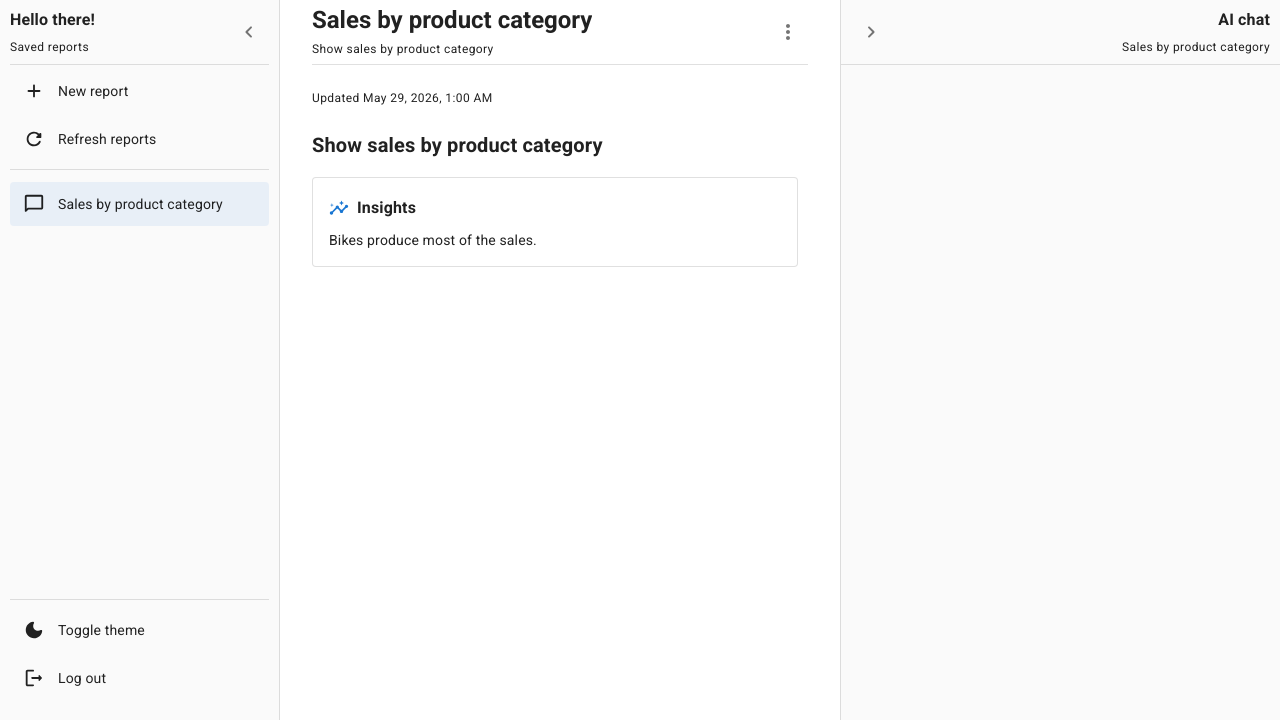
Test: <HomePage /> › shows saved reports from the API and lets the user rename a report
The image size is (1280, 720).
Expected: the button "Sales by product category" is shown, top-left (10, 182), bottom-right (269, 226)
Expected: the heading "Sales by product category" is shown, top-left (312, 4), bottom-right (592, 36)
Click the button named "report actions" at (788, 32), box top-left (768, 12), bottom-right (808, 52)
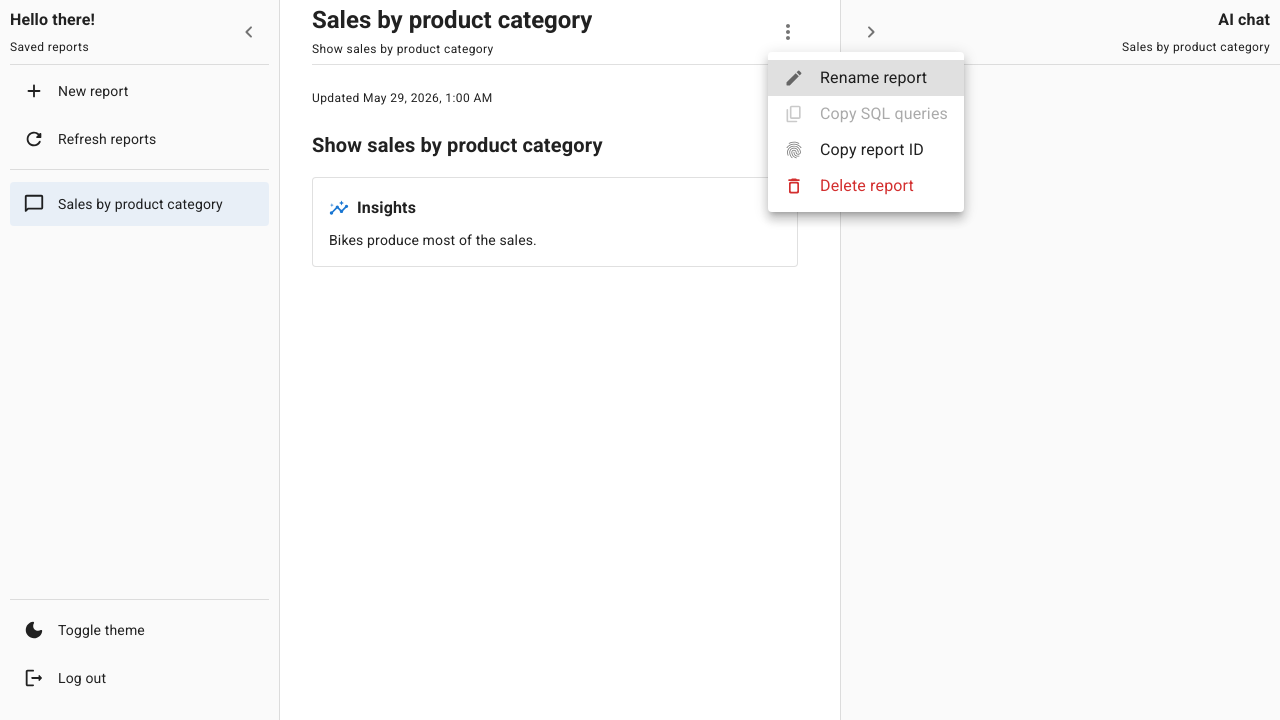
Click the menu item "Rename report" at (866, 78), box top-left (768, 60), bottom-right (964, 96)
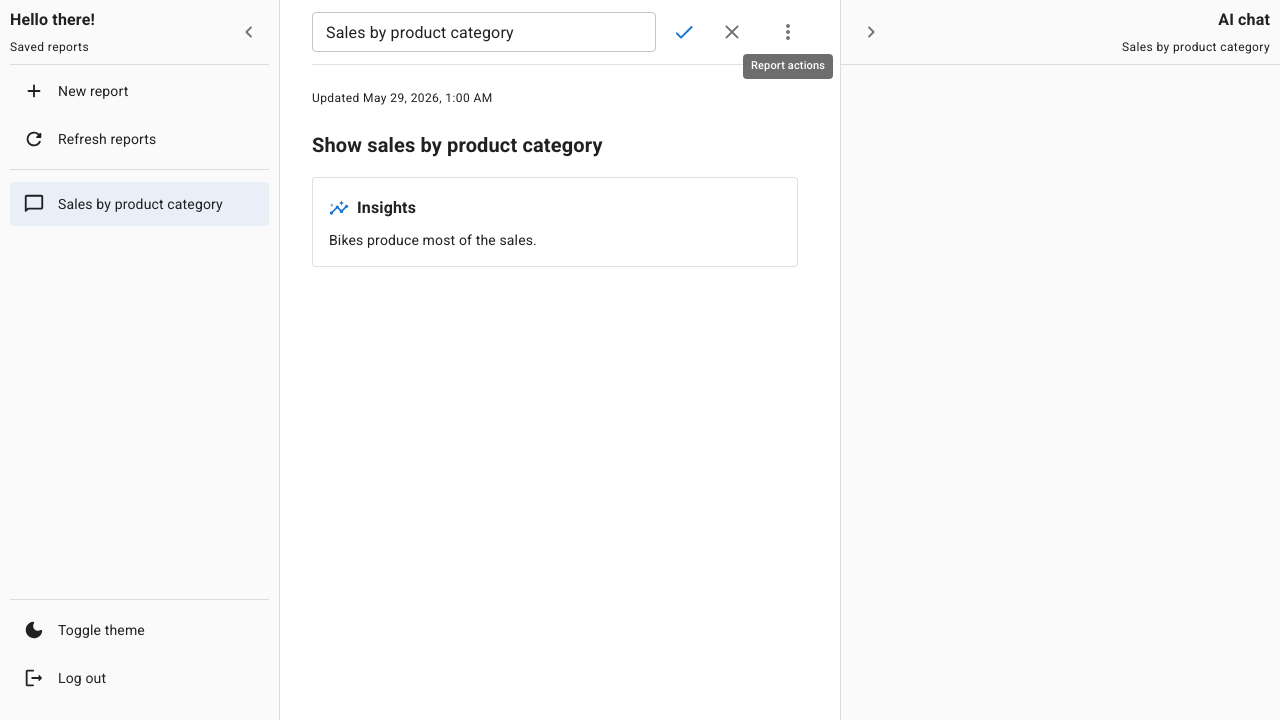
Replace the text in the field named "report title" with "Category sales overview" at (484, 32), box top-left (312, 12), bottom-right (656, 52)
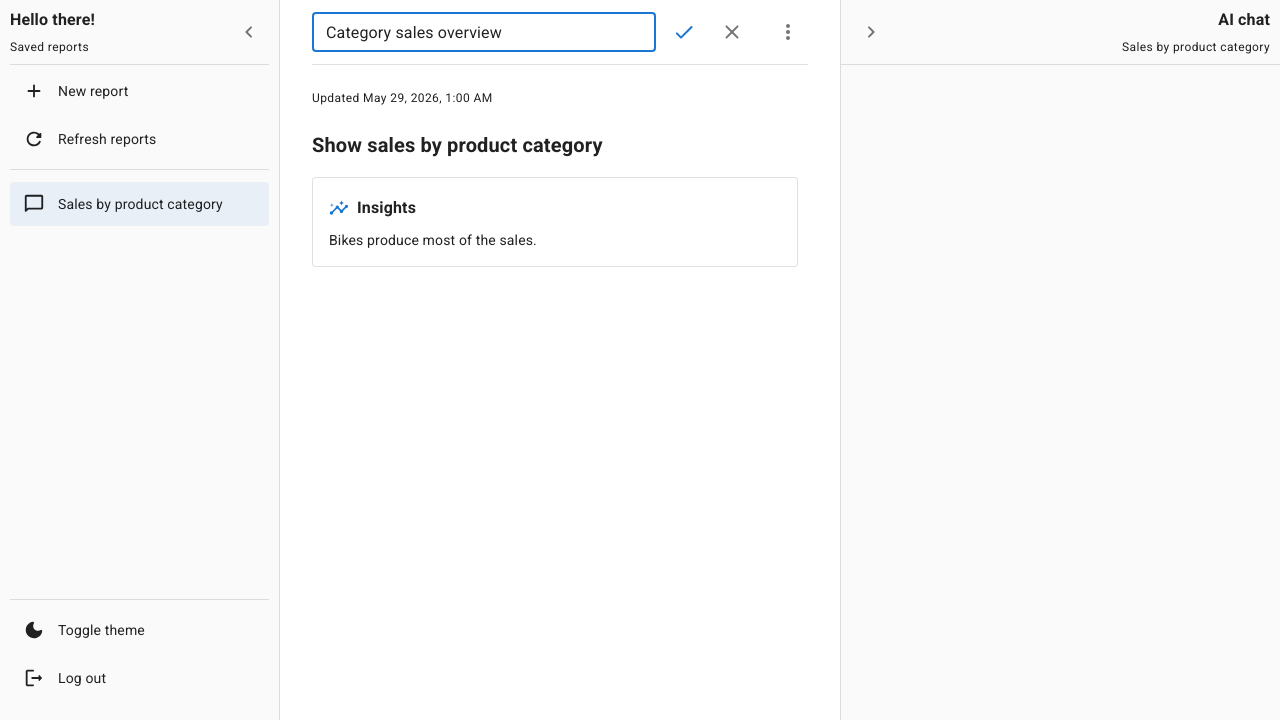
Click the button named "save title" at (684, 32), box top-left (664, 12), bottom-right (704, 52)
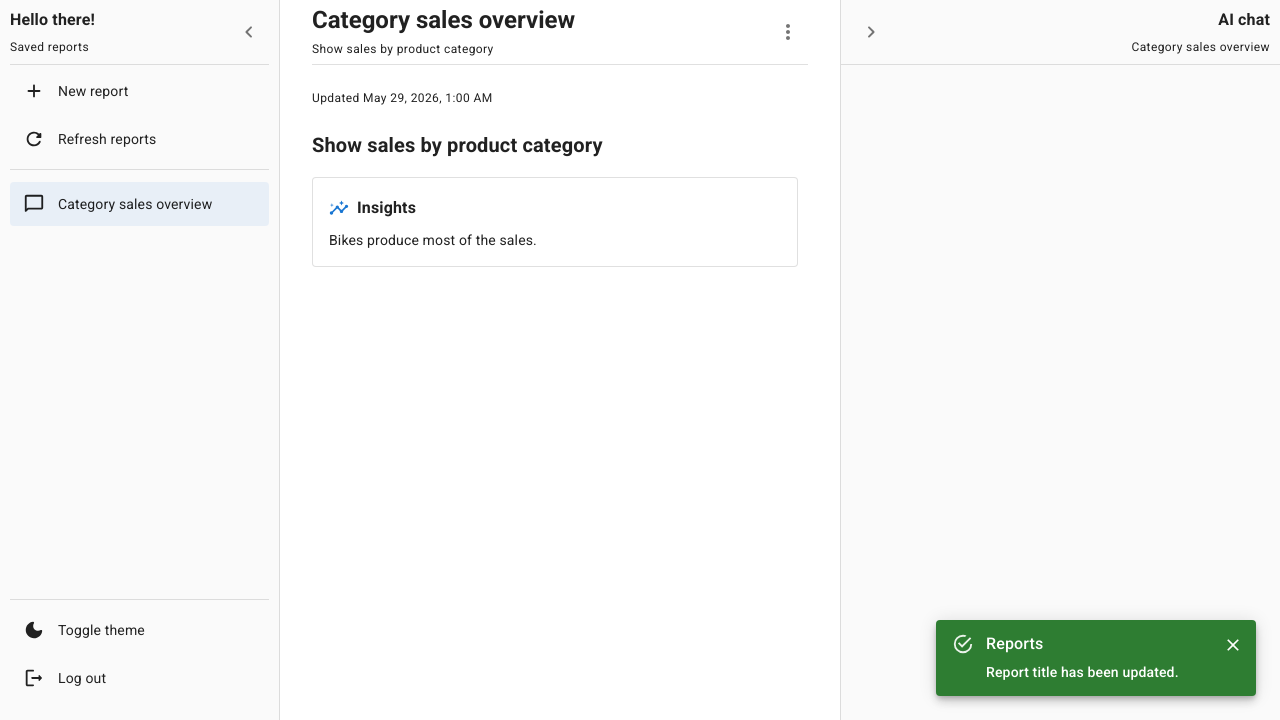
Expected: the heading "Category sales overview" is shown, top-left (312, 4), bottom-right (575, 36)
